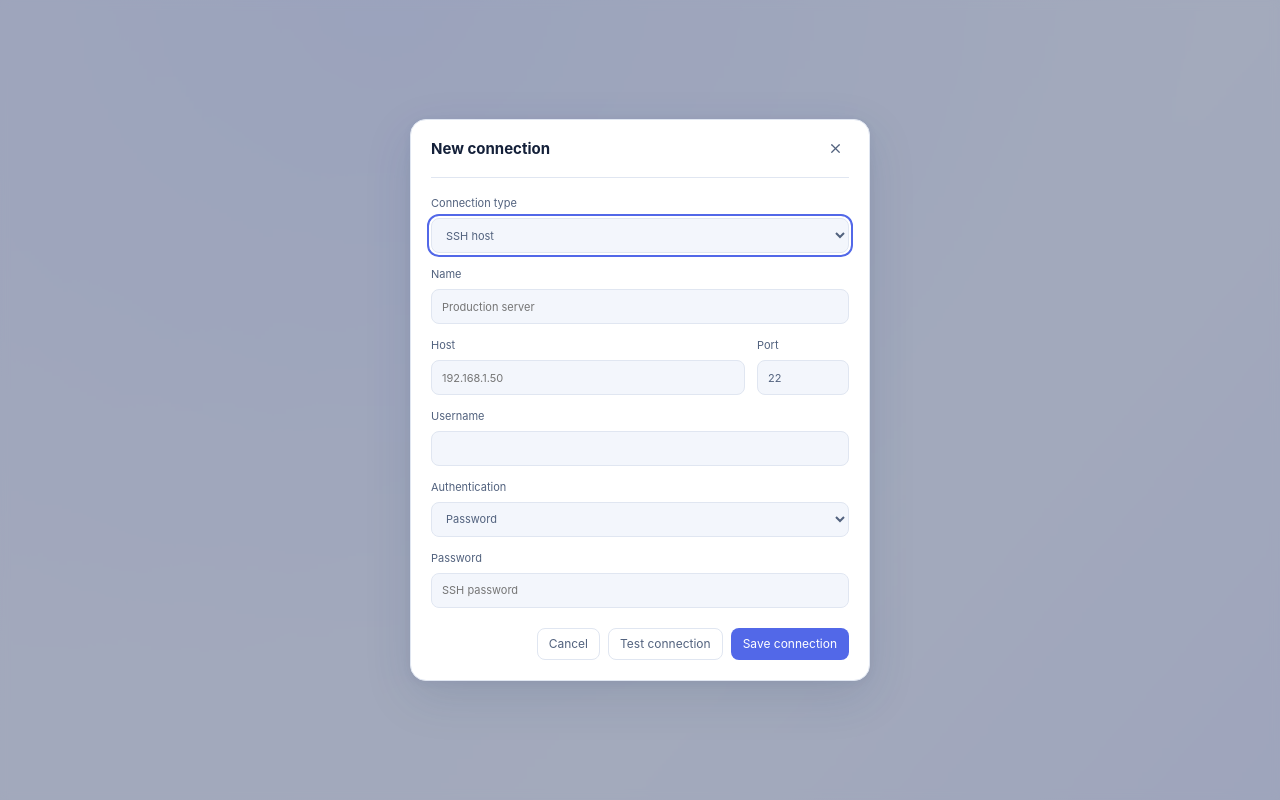
Gateway dialogs › offers a local Mac connection without SSH fields
Select "This Mac" in the dropdown labelled "Connection type" at (640, 236), box [431,218,849,253]
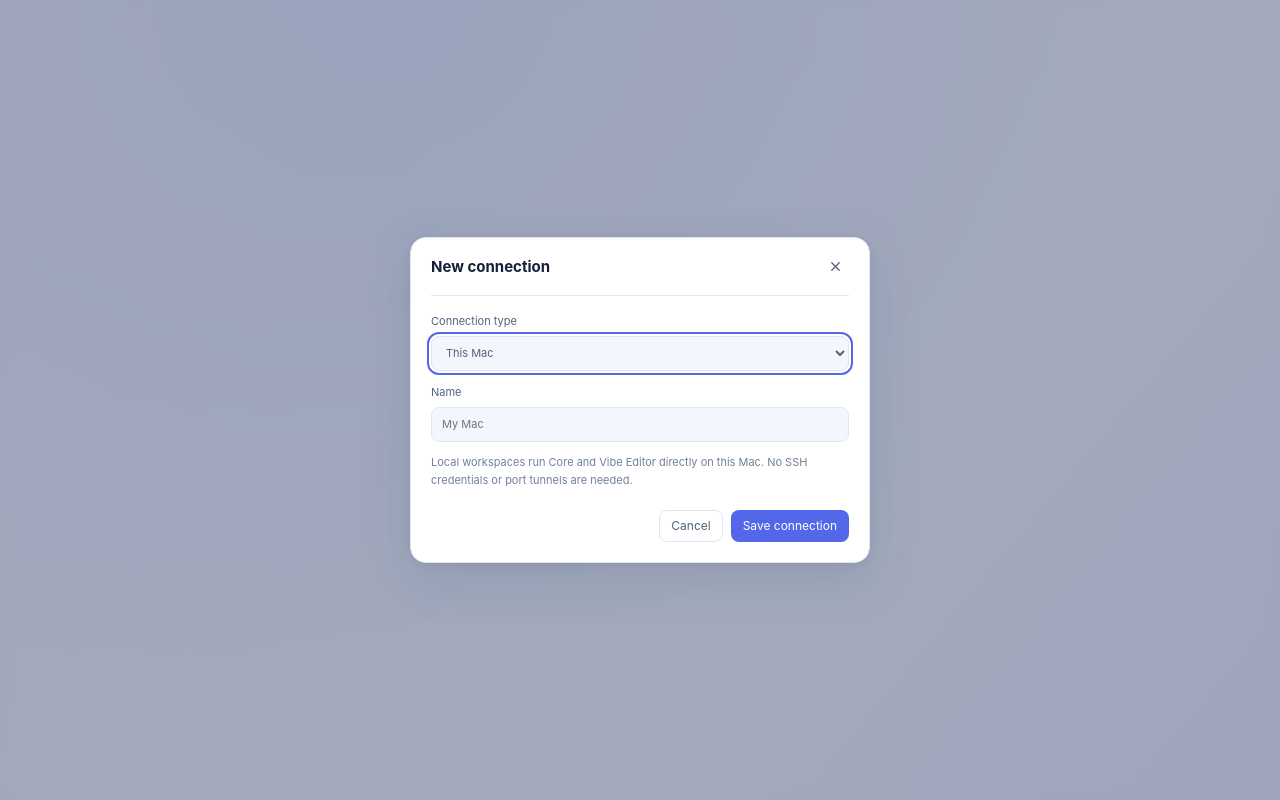
Now the text "run Core and Vibe Editor directly on this Mac" is shown, box [431,455,807,488]
Now the label "Host" is gone
Now the button "Test connection" is gone
